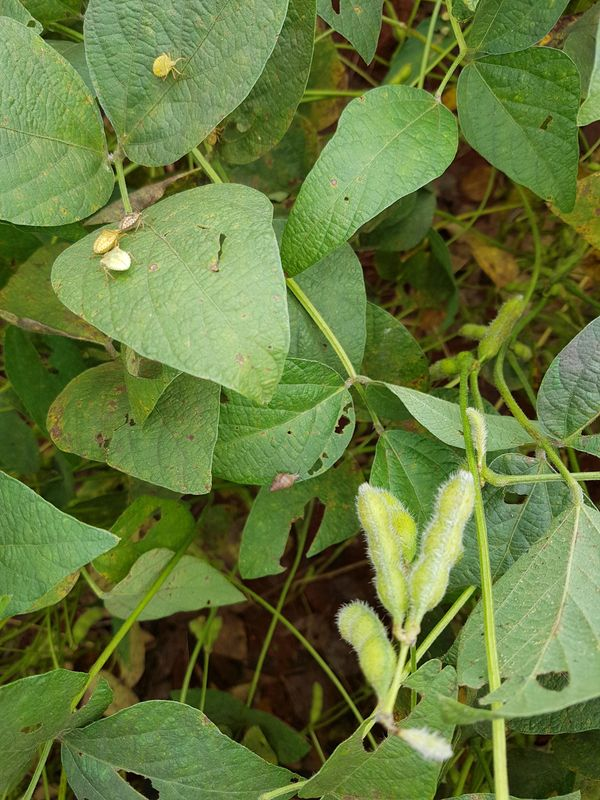Euschistus_heros_ninfa: (94, 244, 140, 283), (146, 48, 186, 86), (86, 226, 124, 257), (117, 208, 150, 234)
Gastropoda: (265, 462, 304, 498)
